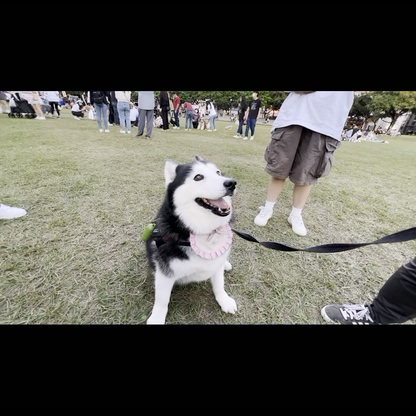husky: (137, 153, 244, 322)
